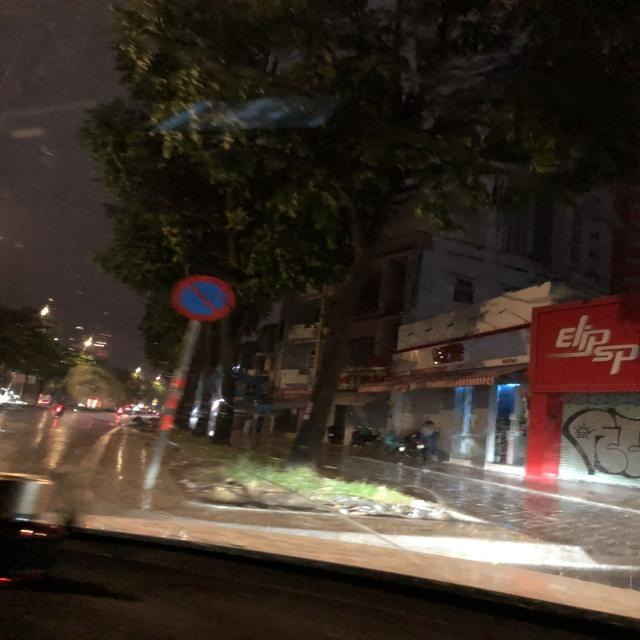Bien bao cam do xe: (167, 272, 237, 325)
